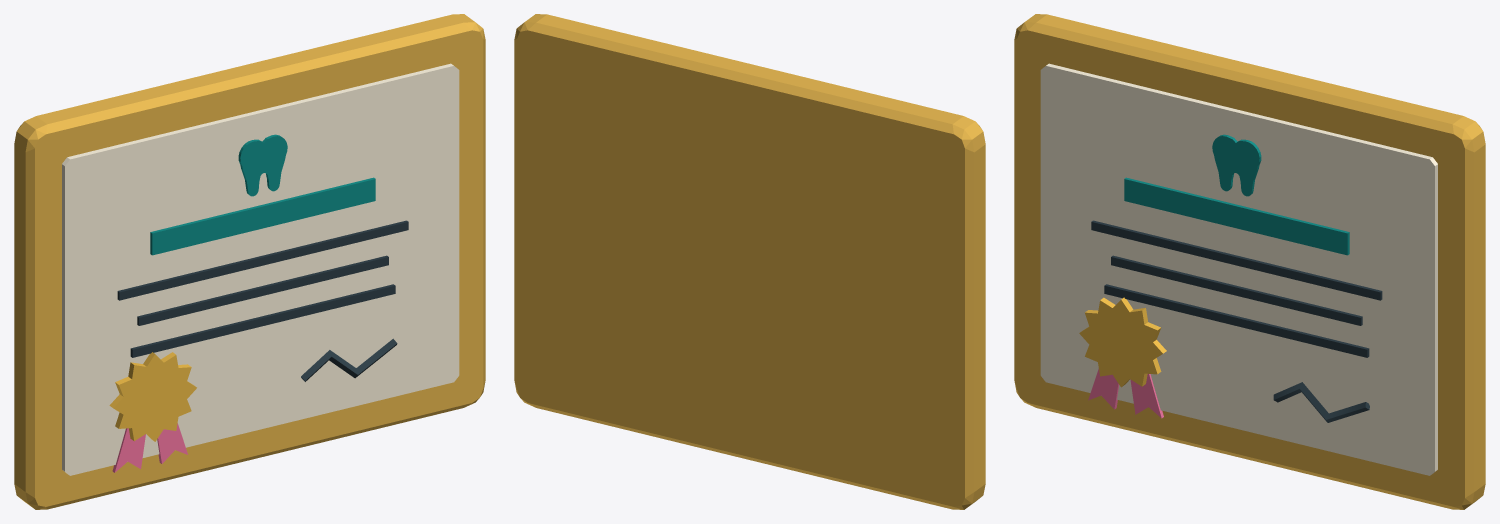
Rendered from plaque_frame.glb.
3 renders of one model, left to right at view 1: azimuth 30°, elevation 25°; view 2: azimuth 150°, elevation 25°; view 3: azimuth 330°, elevation 25°, orthographic.
Visible parts, largest first — view 1: PlaqueFrame; view 2: PlaqueFrame; view 3: PlaqueFrame.
Part boxes in pixels (x1,y1,x2,y2): PlaqueFrame: (14, 14, 485, 509); PlaqueFrame: (514, 14, 985, 509); PlaqueFrame: (1014, 14, 1485, 509).
Size of the model in its own units: 0.35 by 0.28 by 0.0345.
